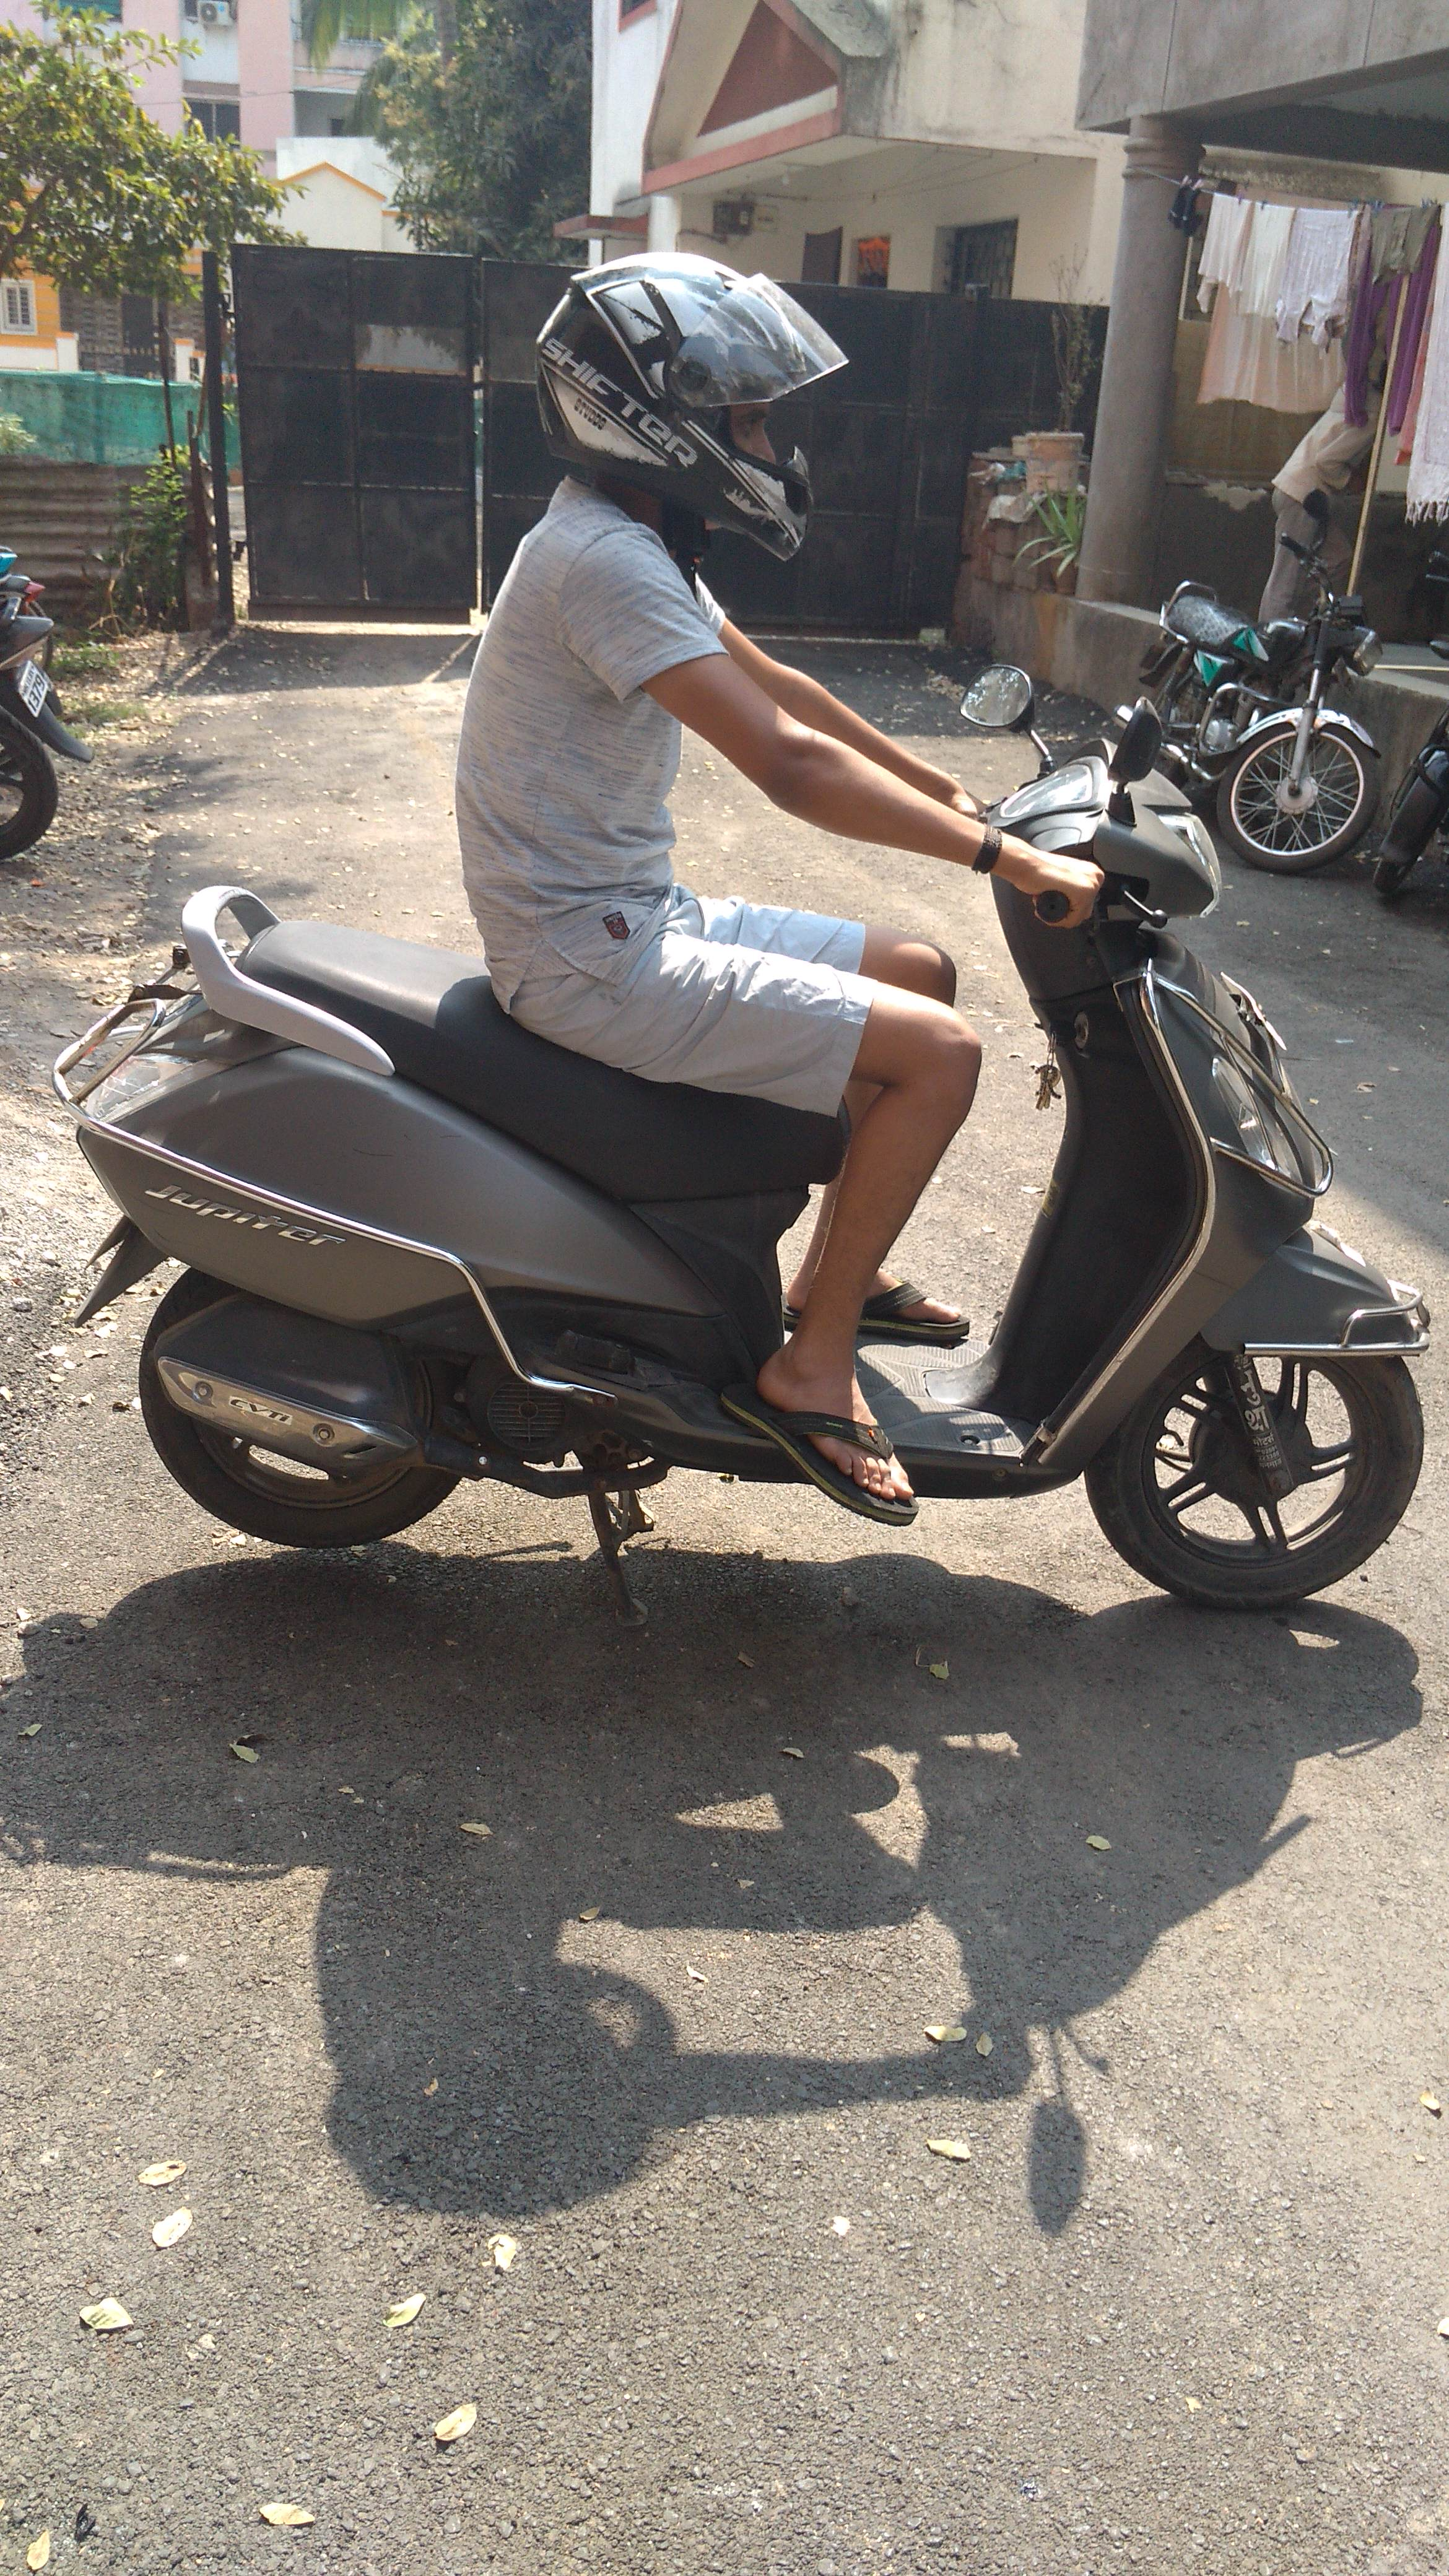helmet: (426, 235, 1023, 1210)
